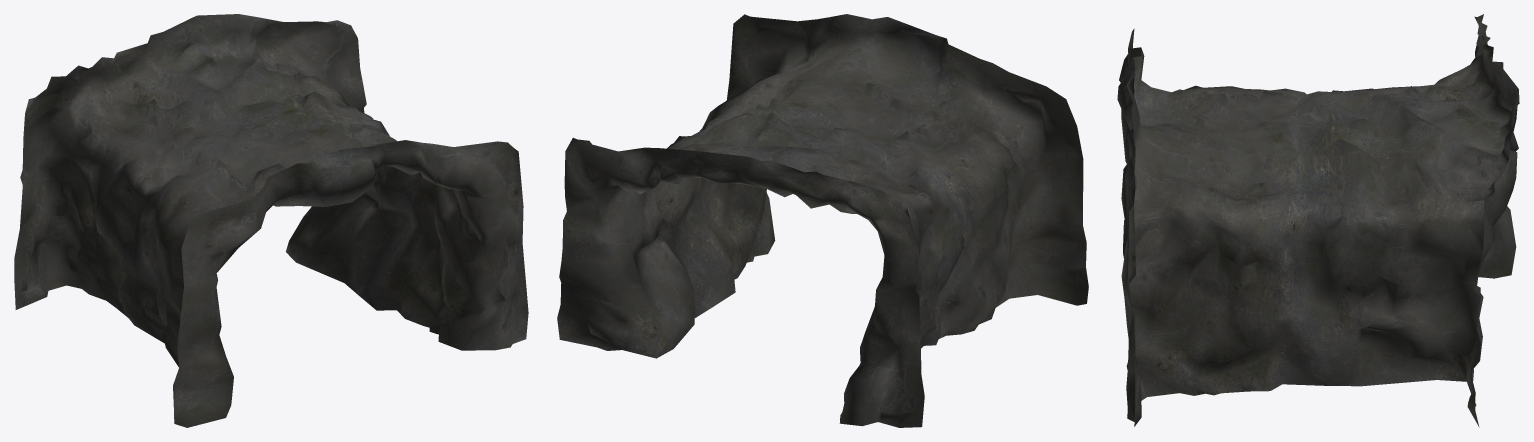
The model's file is rock_forest_cavetunnel_module.DAE.
3 renders of one model, left to right at view 1: azimuth 30°, elevation 25°; view 2: azimuth 150°, elevation 25°; view 3: azimuth 270°, elevation 25°, orthographic. The views are drawn at different scales.
Visible parts, largest first — view 1: tunnel_Rock01 (2); view 2: tunnel_Rock01 (2); view 3: tunnel_Rock01 (2).
Boxes of the visible parts, box(x1,y1,x2,y2) form: tunnel_Rock01 (2): box(14, 14, 528, 427); tunnel_Rock01 (2): box(557, 14, 1088, 427); tunnel_Rock01 (2): box(1117, 14, 1519, 427).
Size of the model in its own units: 10.84 by 6.85 by 9.58.
